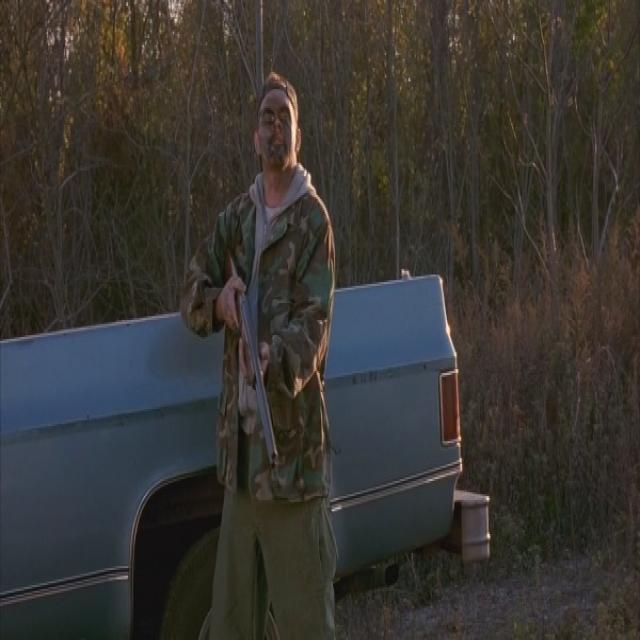rifle: (221, 241, 286, 468)
